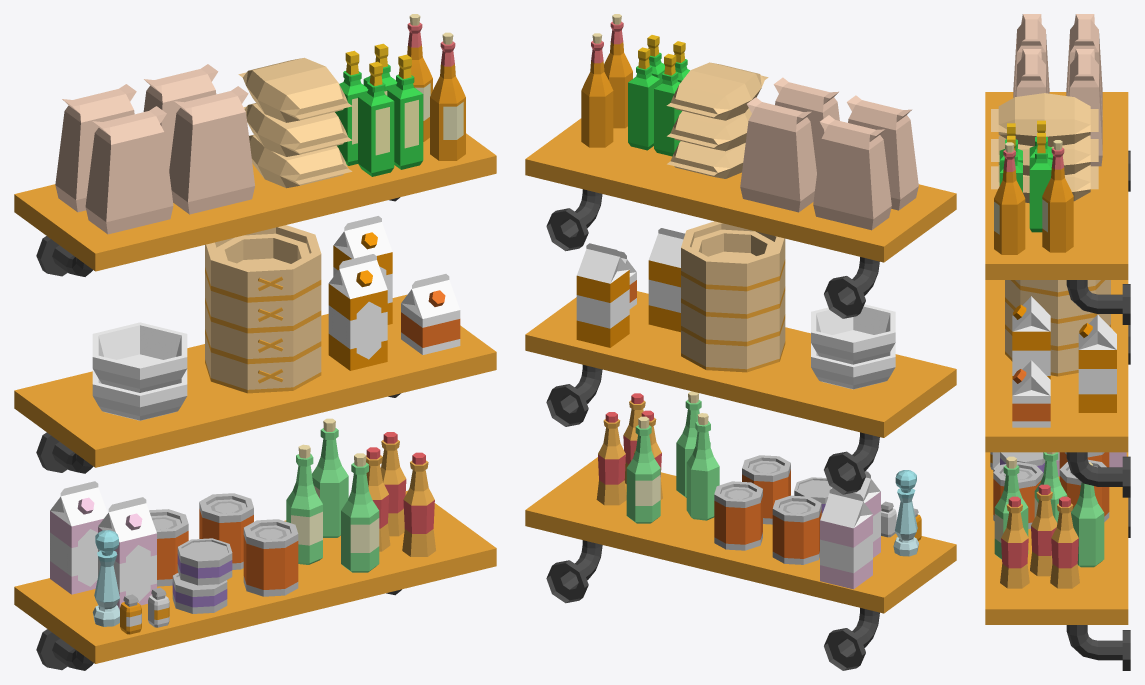
File: CocinaObjetos03.fbx
3 views of the same model, side by side, from view 1: azimuth 30°, elevation 25°; view 2: azimuth 150°, elevation 25°; view 3: azimuth 270°, elevation 25° (orthographic). The views are drawn at different scales.
Parts seen in each view (by area): view 1: CocinaObjetos03; view 2: CocinaObjetos03; view 3: CocinaObjetos03.
Part boxes in pixels (left/top/right/bottom): CocinaObjetos03: left=14, top=14, right=496, bottom=670; CocinaObjetos03: left=525, top=14, right=956, bottom=670; CocinaObjetos03: left=985, top=14, right=1130, bottom=670.
Size of the model in its own units: 123 by 177 by 43.74.
